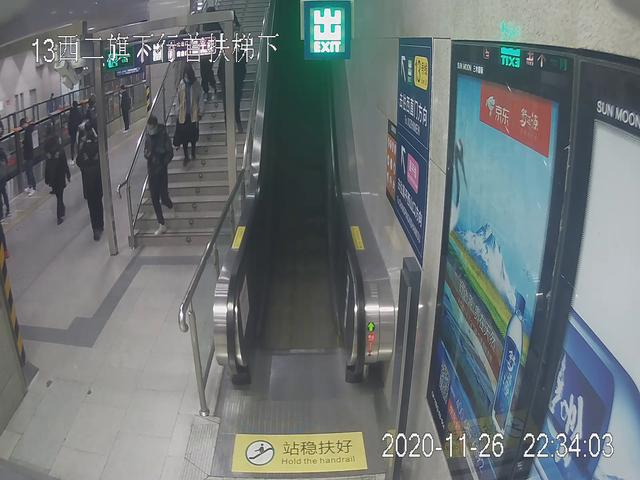person: (143, 115, 174, 233), (72, 146, 111, 238), (171, 63, 204, 161), (17, 119, 43, 196), (44, 141, 69, 220), (118, 87, 134, 136)
